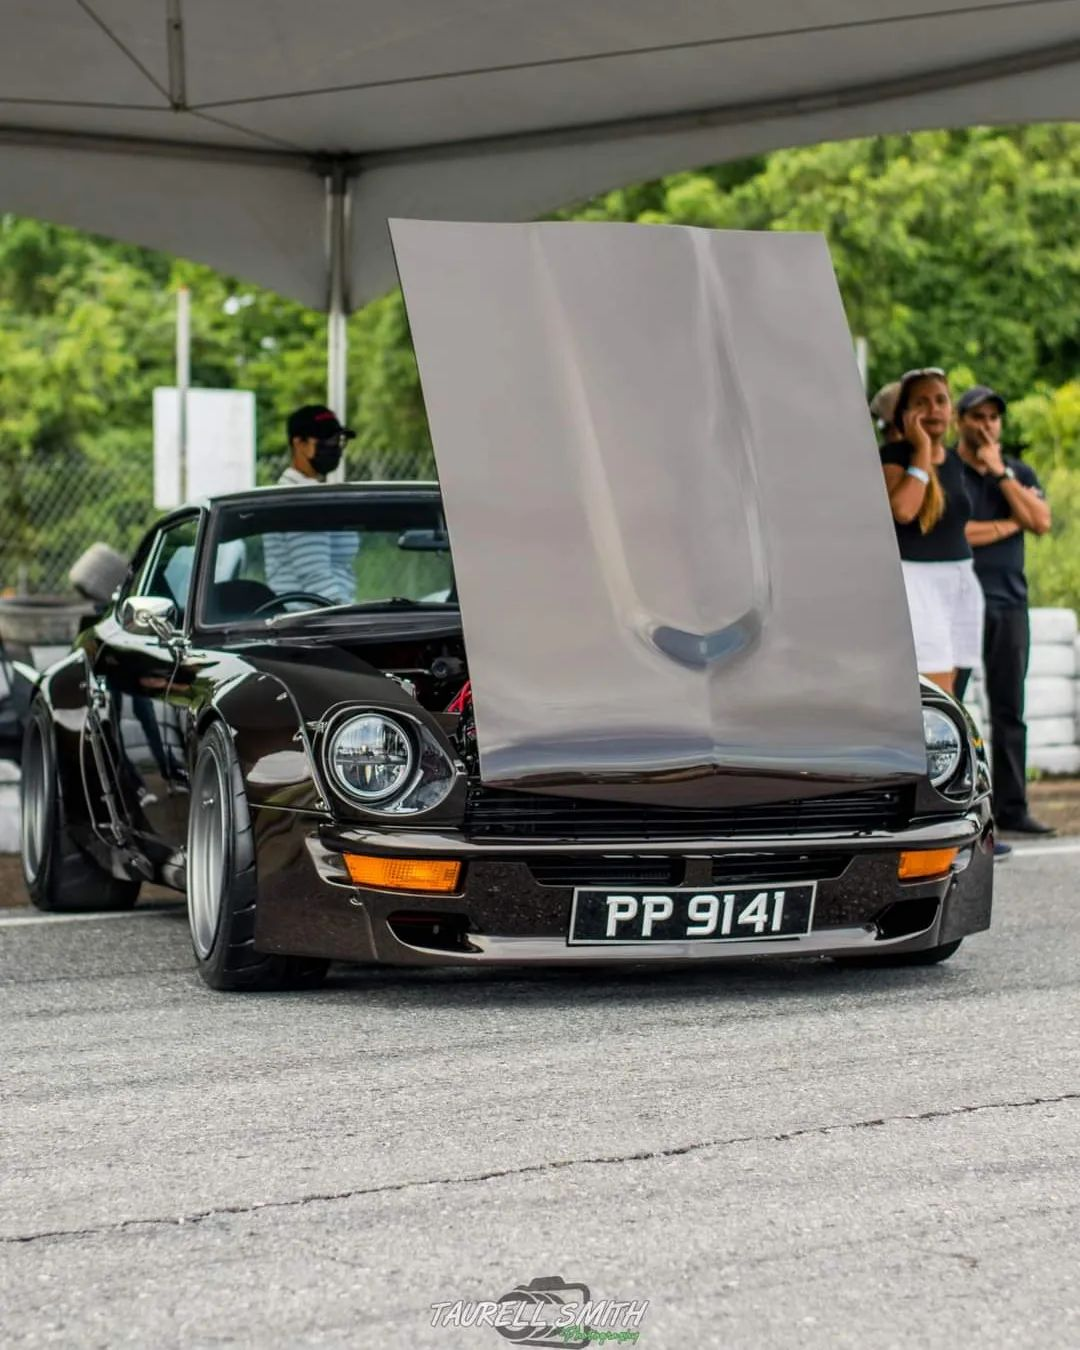License-Plate: (577, 891, 802, 938)
